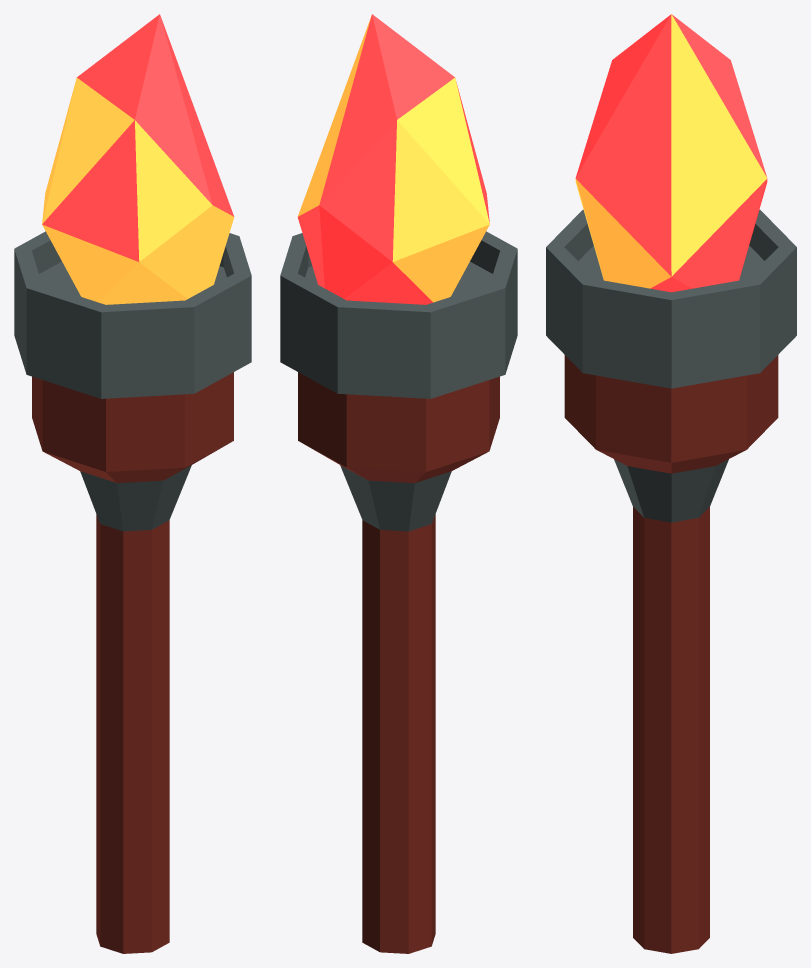
The model's file is Torch_5_Red.fbx.
3 views of the same model, side by side, from view 1: azimuth 30°, elevation 25°; view 2: azimuth 150°, elevation 25°; view 3: azimuth 270°, elevation 25° (orthographic). The views are drawn at different scales.
Parts seen in each view (by area): view 1: Torch_5_Red_Part_1, Torch_5_Red_Part_2, Torch_5_Red_Part_4, Torch_5_Red_Part_3; view 2: Torch_5_Red_Part_1, Torch_5_Red_Part_2, Torch_5_Red_Part_3, Torch_5_Red_Part_4; view 3: Torch_5_Red_Part_1, Torch_5_Red_Part_2, Torch_5_Red_Part_3, Torch_5_Red_Part_4.
Boxes of the visible parts, x1,y1,x2,y2 form: Torch_5_Red_Part_1: [32, 372, 233, 953]; Torch_5_Red_Part_2: [14, 231, 251, 531]; Torch_5_Red_Part_4: [42, 78, 234, 304]; Torch_5_Red_Part_3: [42, 14, 234, 261]; Torch_5_Red_Part_1: [298, 372, 499, 953]; Torch_5_Red_Part_2: [280, 231, 517, 531]; Torch_5_Red_Part_3: [297, 14, 489, 304]; Torch_5_Red_Part_4: [297, 16, 489, 302]; Torch_5_Red_Part_1: [564, 355, 778, 953]; Torch_5_Red_Part_2: [546, 209, 796, 522]; Torch_5_Red_Part_3: [575, 14, 767, 292]; Torch_5_Red_Part_4: [575, 14, 767, 288].
Size of the model in its own units: 13.01 by 53.59 by 13.01.
